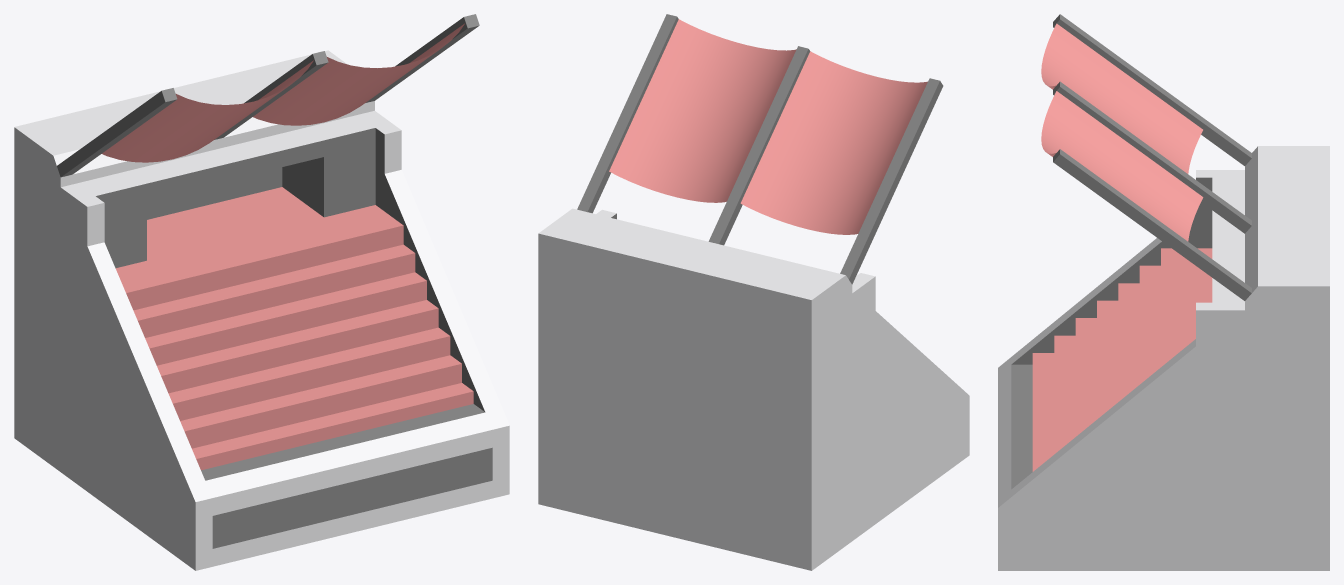
Rendered from grandStandAwning.glb.
The picture shows the model from 3 angles, left to right: view 1: azimuth 30°, elevation 25°; view 2: azimuth 150°, elevation 25°; view 3: azimuth 270°, elevation 25°; orthographic projection. The views are drawn at different scales.
Visible parts, largest first — view 1: grandStandAwning(Clone); view 2: grandStandAwning(Clone); view 3: grandStandAwning(Clone).
Boxes of the visible parts, x1,y1,x2,y2 form: grandStandAwning(Clone): [14, 14, 509, 570]; grandStandAwning(Clone): [538, 14, 969, 570]; grandStandAwning(Clone): [998, 14, 1329, 570].
Size of the model in its own units: 1 by 1.39 by 1.
Materials: 1 (1 with a texture image).
